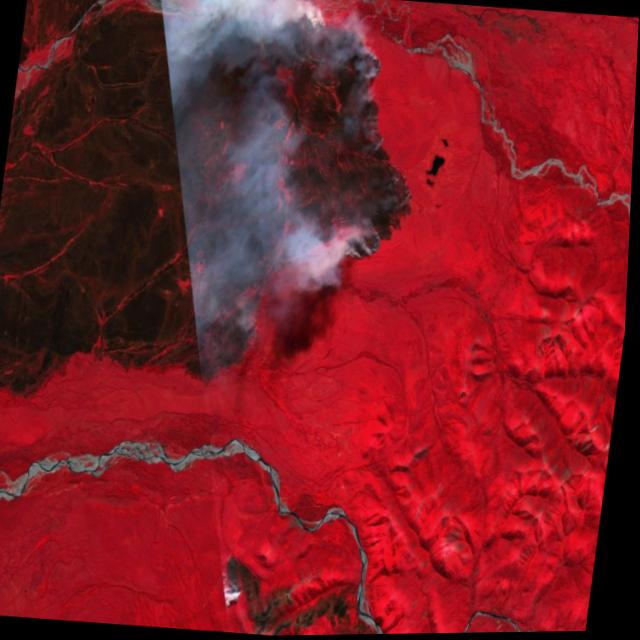fire: (225, 0, 438, 215), (272, 213, 394, 287), (218, 557, 256, 616)
